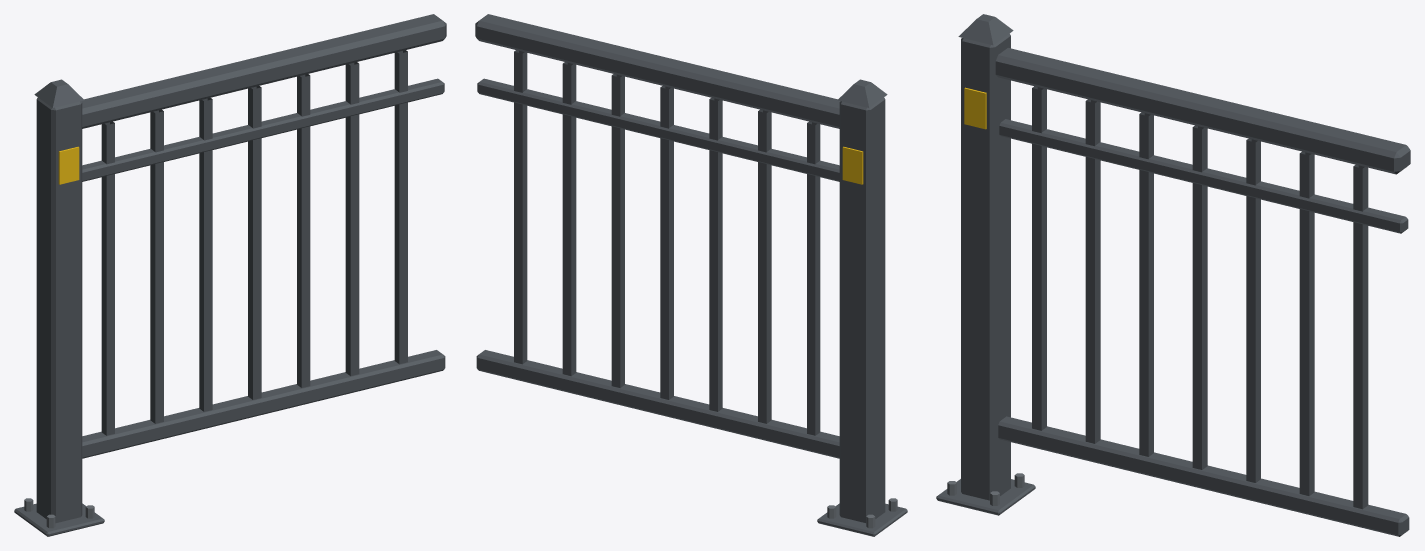
File: SC_Str_Guardrail_1m.gltf
3 views of the same model, side by side, from view 1: azimuth 30°, elevation 25°; view 2: azimuth 150°, elevation 25°; view 3: azimuth 330°, elevation 25° (orthographic). The views are drawn at different scales.
Visible parts, largest first — view 1: SC_Str_Guardrail_1m; view 2: SC_Str_Guardrail_1m; view 3: SC_Str_Guardrail_1m.
Part boxes in pixels (box(x1,y1,x2,y2)): SC_Str_Guardrail_1m: box(14, 14, 446, 536); SC_Str_Guardrail_1m: box(475, 14, 907, 536); SC_Str_Guardrail_1m: box(936, 14, 1410, 536).
Size of the model in its own units: 1.06 by 1.06 by 0.15.
Materials: 1 (1 with a texture image).
